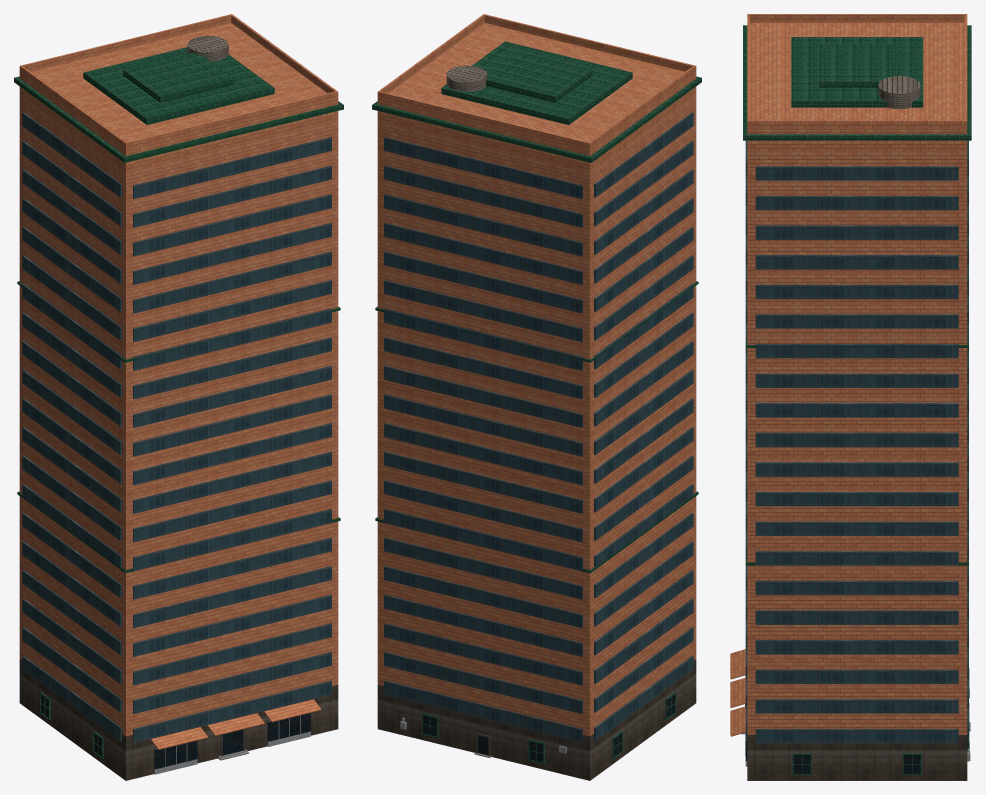
Rendered from griswold-arcade-tower_lod0.gltf.
The picture shows the model from 3 angles, left to right: view 1: azimuth 30°, elevation 25°; view 2: azimuth 150°, elevation 25°; view 3: azimuth 270°, elevation 25°; orthographic projection. The views are drawn at different scales.
Parts seen in each view (by area): view 1: griswold-arcade-tower_upper, griswold-arcade-tower_fen_07-glass-curtain-blue_0, griswold-arcade-tower_base, griswold-arcade-tower__crown_step_1, griswold-arcade-tower__crown_step_2, griswold-arcade-tower__cornice, griswold-arcade-tower_fen_07-glass-curtain-blue_2_t, griswold-arcade-tower__parapet_front, griswold-arcade-tower__parapet_back, griswold-arcade-tower__parapet_left, griswold-arcade-tower__parapet_right, griswold-arcade-tower__water_tank (+4 smaller); view 2: griswold-arcade-tower_upper, griswold-arcade-tower_fen_07-glass-curtain-blue_0, griswold-arcade-tower_base, griswold-arcade-tower__crown_step_1, griswold-arcade-tower__crown_step_2, griswold-arcade-tower__cornice, griswold-arcade-tower__parapet_back, griswold-arcade-tower__parapet_front, griswold-arcade-tower__parapet_left, griswold-arcade-tower_fen_07-glass-curtain-blue_2_t, griswold-arcade-tower__parapet_right, griswold-arcade-tower__water_tank (+1 smaller); view 3: griswold-arcade-tower_upper, griswold-arcade-tower_fen_07-glass-curtain-blue_0, griswold-arcade-tower_base, griswold-arcade-tower__crown_step_1, griswold-arcade-tower__crown_step_2, griswold-arcade-tower__cornice, griswold-arcade-tower__parapet_left, griswold-arcade-tower__parapet_right, griswold-arcade-tower__water_tank, griswold-arcade-tower_fen_07-glass-curtain-blue_2_t, griswold-arcade-tower_fen_11-glazed-tile_5, griswold-arcade-tower__parapet_back (+2 smaller).
Part boxes in pixels (x1,y1,x2,y2): griswold-arcade-tower_upper: [19, 23, 338, 736]; griswold-arcade-tower_fen_07-glass-curtain-blue_0: [22, 112, 331, 742]; griswold-arcade-tower_base: [19, 659, 338, 780]; griswold-arcade-tower__crown_step_1: [83, 47, 274, 124]; griswold-arcade-tower__crown_step_2: [123, 53, 234, 102]; griswold-arcade-tower__cornice: [14, 76, 343, 162]; griswold-arcade-tower_fen_07-glass-curtain-blue_2_t: [41, 695, 310, 769]; griswold-arcade-tower__parapet_front: [124, 91, 338, 150]; griswold-arcade-tower__parapet_back: [19, 14, 232, 73]; griswold-arcade-tower__parapet_left: [21, 66, 126, 149]; griswold-arcade-tower__parapet_right: [231, 15, 336, 93]; griswold-arcade-tower__water_tank: [187, 35, 228, 61]; griswold-arcade-tower_upper: [377, 23, 696, 736]; griswold-arcade-tower_fen_07-glass-curtain-blue_0: [384, 112, 693, 742]; griswold-arcade-tower_base: [377, 659, 696, 780]; griswold-arcade-tower__crown_step_1: [441, 41, 632, 124]; griswold-arcade-tower__crown_step_2: [486, 51, 592, 102]; griswold-arcade-tower__cornice: [372, 76, 701, 162]; griswold-arcade-tower__parapet_back: [377, 91, 591, 150]; griswold-arcade-tower__parapet_front: [483, 14, 696, 73]; griswold-arcade-tower__parapet_left: [589, 66, 694, 149]; griswold-arcade-tower_fen_07-glass-curtain-blue_2_t: [423, 695, 674, 762]; griswold-arcade-tower__parapet_right: [379, 15, 484, 93]; griswold-arcade-tower__water_tank: [446, 65, 487, 91]; griswold-arcade-tower_upper: [747, 22, 967, 734]; griswold-arcade-tower_fen_07-glass-curtain-blue_0: [745, 140, 968, 743]; griswold-arcade-tower_base: [747, 735, 967, 780]; griswold-arcade-tower__crown_step_1: [791, 37, 923, 107]; griswold-arcade-tower__crown_step_2: [818, 44, 895, 87]; griswold-arcade-tower__cornice: [743, 25, 971, 140]; griswold-arcade-tower__parapet_left: [749, 14, 964, 22]; griswold-arcade-tower__parapet_right: [749, 120, 964, 128]; griswold-arcade-tower__water_tank: [878, 76, 920, 109]; griswold-arcade-tower_fen_07-glass-curtain-blue_2_t: [745, 739, 967, 773]; griswold-arcade-tower_fen_11-glazed-tile_5: [791, 668, 969, 775]; griswold-arcade-tower__parapet_back: [964, 14, 967, 128].
Bounding box in the file's own units: 31 × 87 × 28.47.
